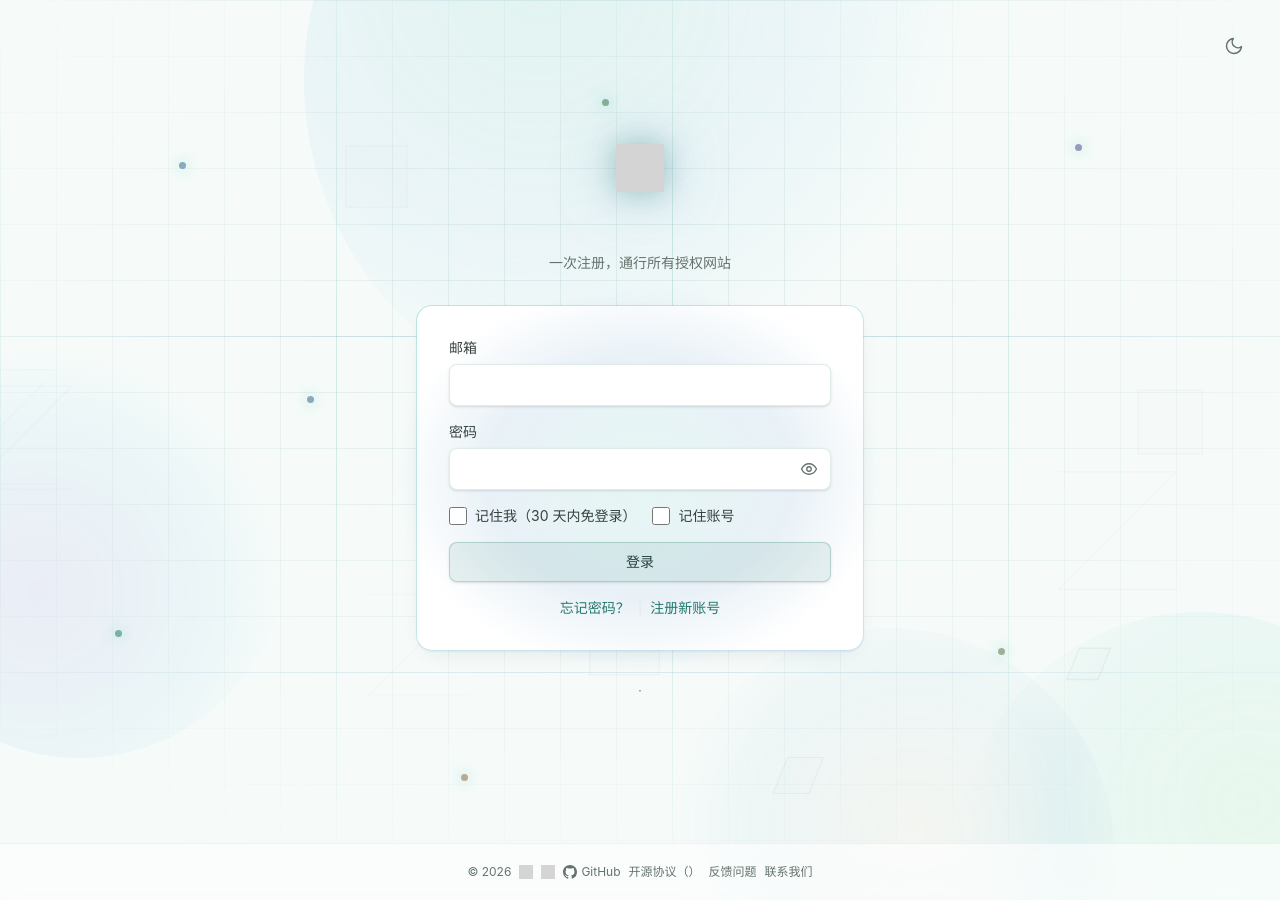
it: LoginPage › 登录返回 requires_2fa 时进入验证码步骤
Step 1. Type "a@example.com" into the field labelled "邮箱" → {"x": 640, "y": 385}, box [449,364,831,406]
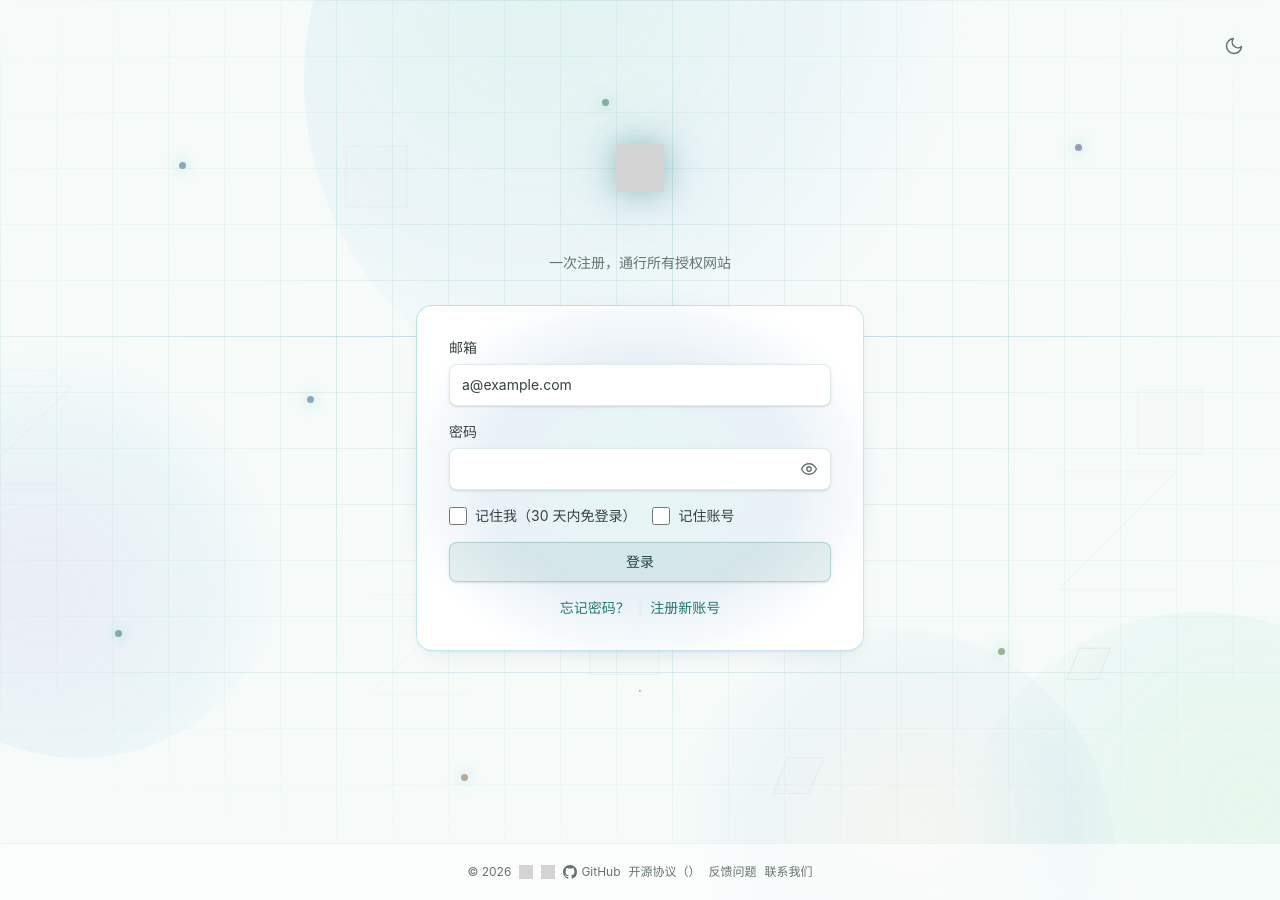
Step 2. Type "password123" into the password field labelled "密码" → {"x": 640, "y": 469}, box [449,448,831,490]
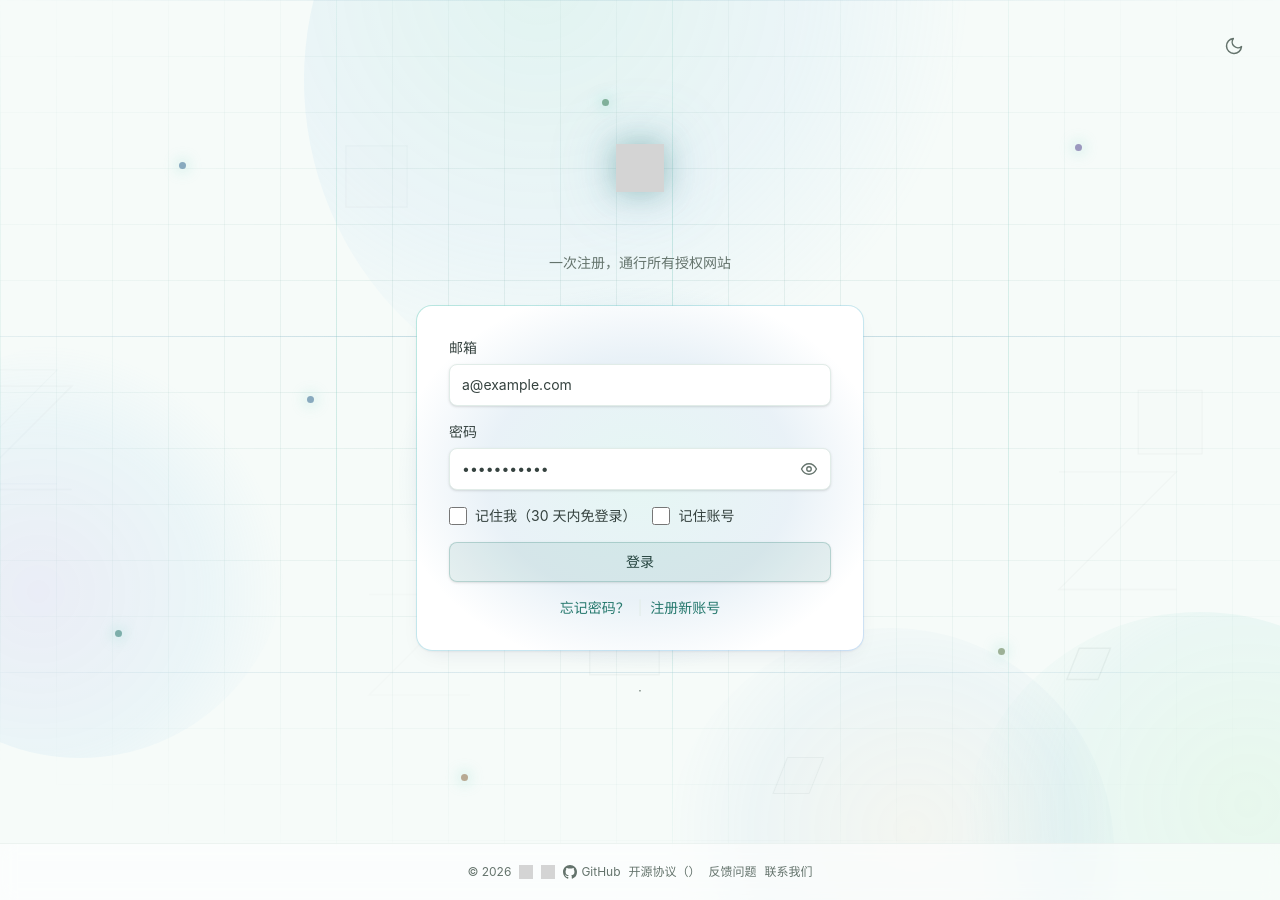
Step 3. Click the button "登录" → {"x": 640, "y": 562}, box [449,542,831,582]
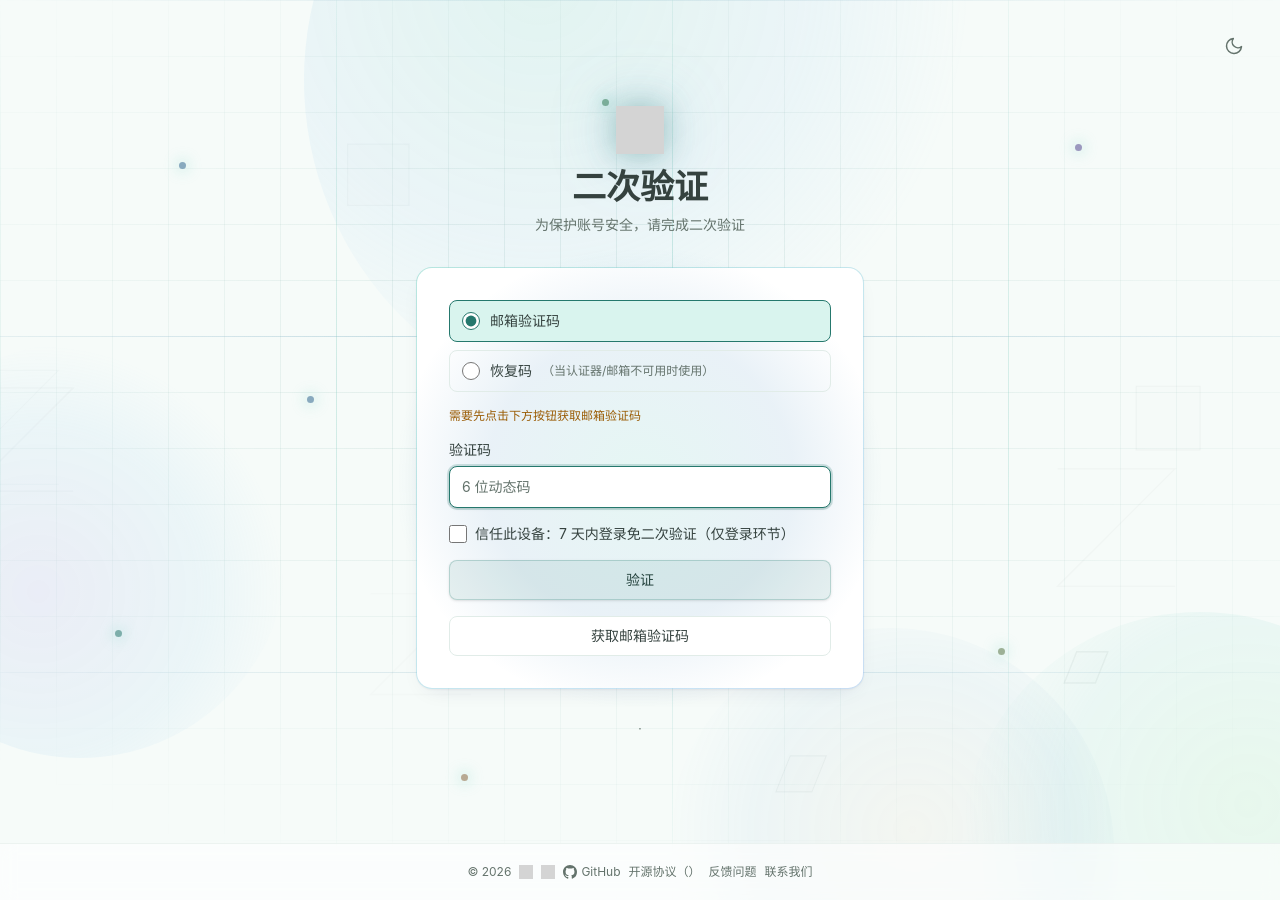
Result: the button "验证" is shown at [449,560,831,600]
